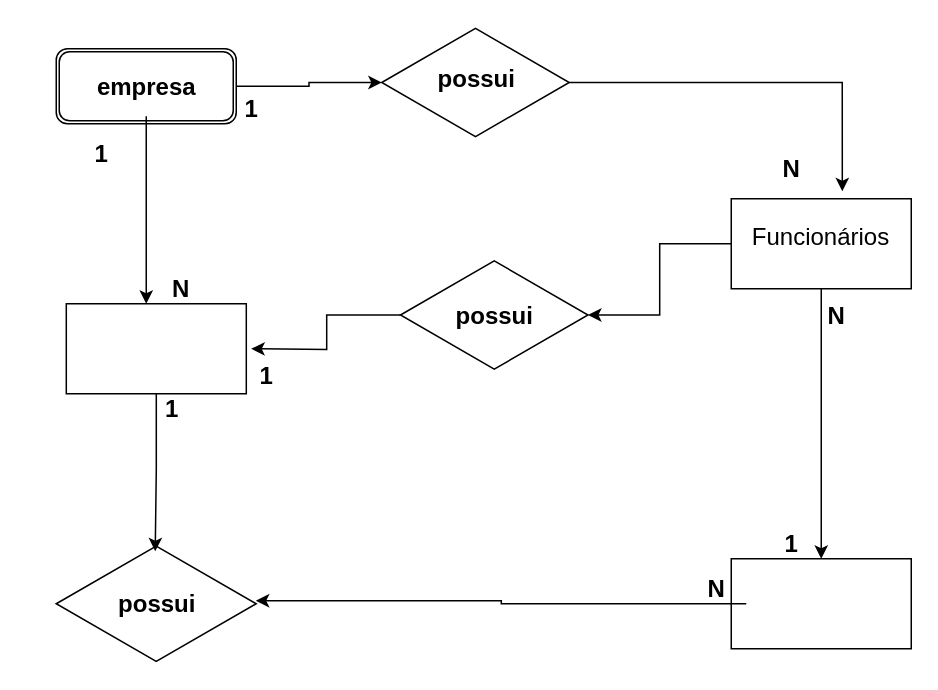
This 938x690 diagram has some shape labels left out. Here are the shapes that lost their labels. From the top down, the centre of each, then its label:
At point 155,348: "cargos".
At point 820,603: "salário".
